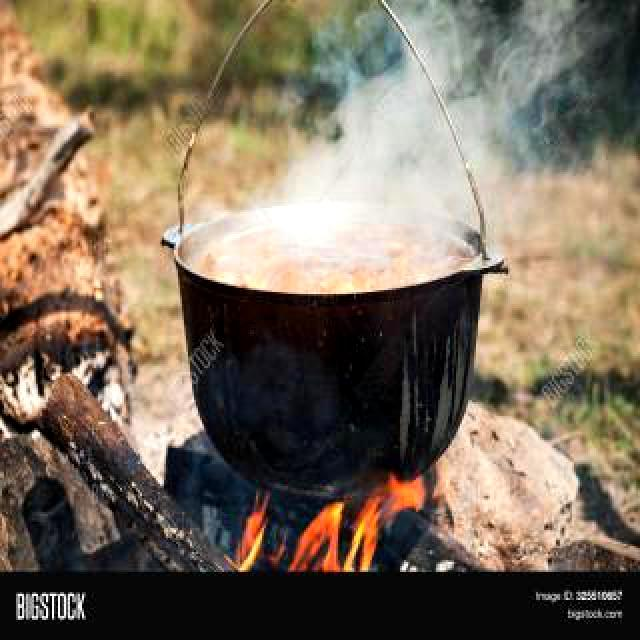Fire: (228, 474, 428, 572)
Smoke: (203, 0, 590, 286)
